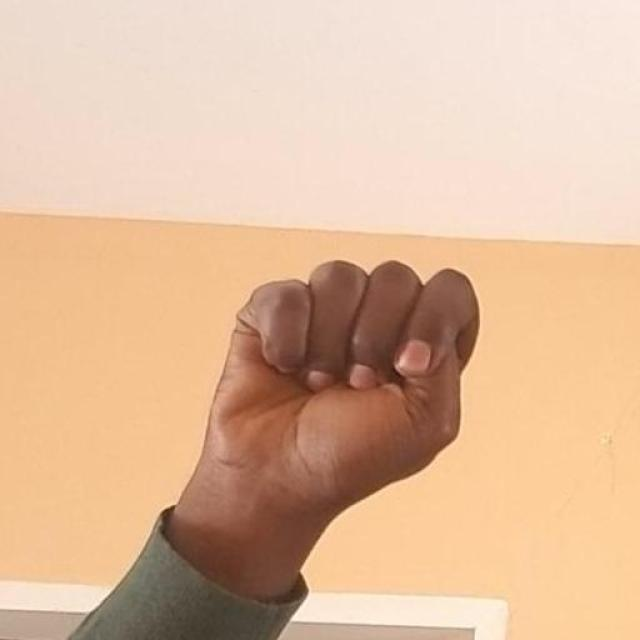hand: (164, 256, 480, 602)
